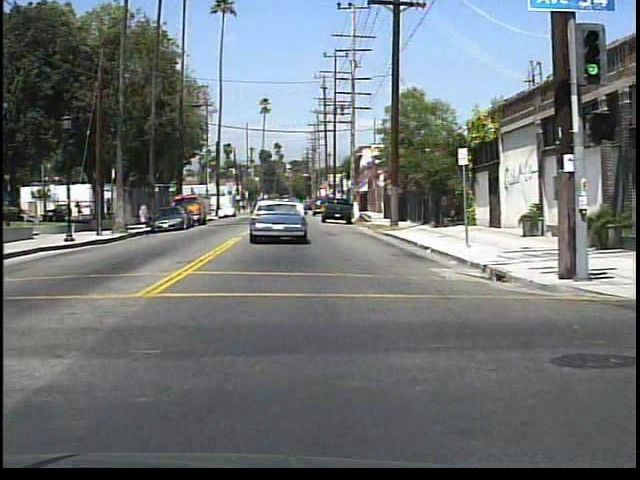person: (102, 195, 116, 221), (139, 201, 152, 228), (74, 198, 85, 221)
